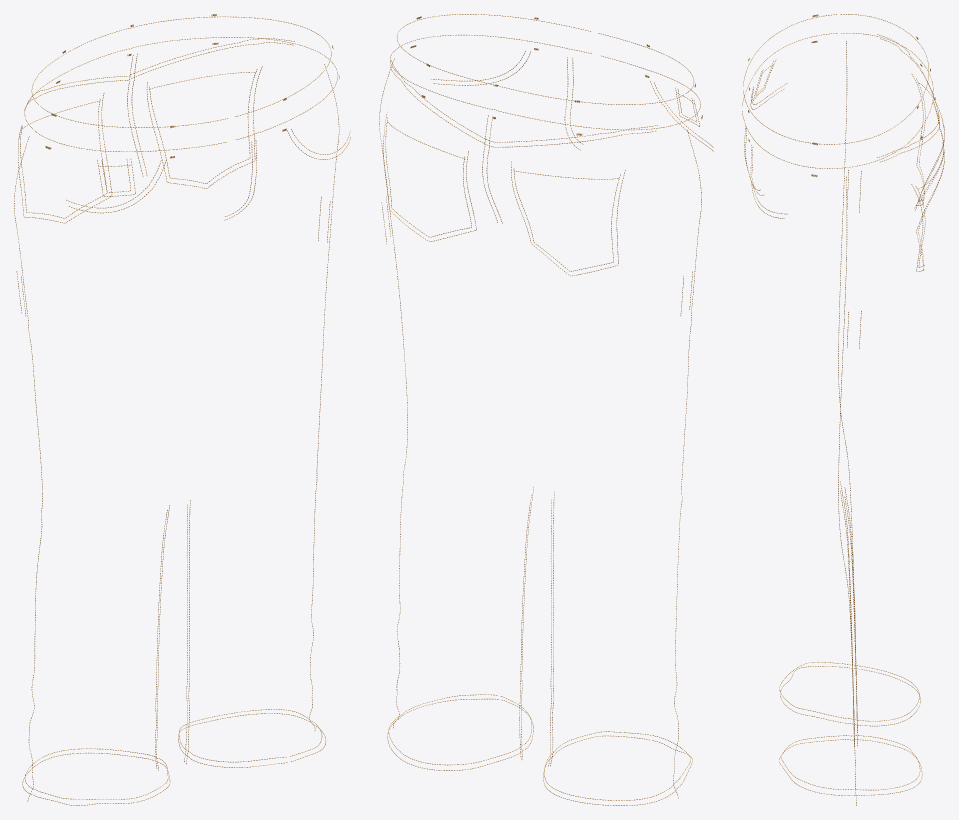
The model's file is 20_vaquero_clasico_costuras.glb.
The picture shows the model from 3 angles, left to right: view 1: azimuth 30°, elevation 25°; view 2: azimuth 150°, elevation 25°; view 3: azimuth 270°, elevation 25°; orthographic projection. The views are drawn at different scales.
Parts seen in each view (by area): view 1: stitch; view 2: stitch; view 3: stitch.
Boxes of the visible parts, left/top/right/bottom form: stitch: left=14, top=14, right=350, bottom=805; stitch: left=379, top=14, right=713, bottom=805; stitch: left=742, top=14, right=944, bottom=805.
Bounding box in the file's own units: 0.4477 × 0.9385 × 0.2566.
